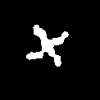single_crochet: (26, 25, 68, 65)
